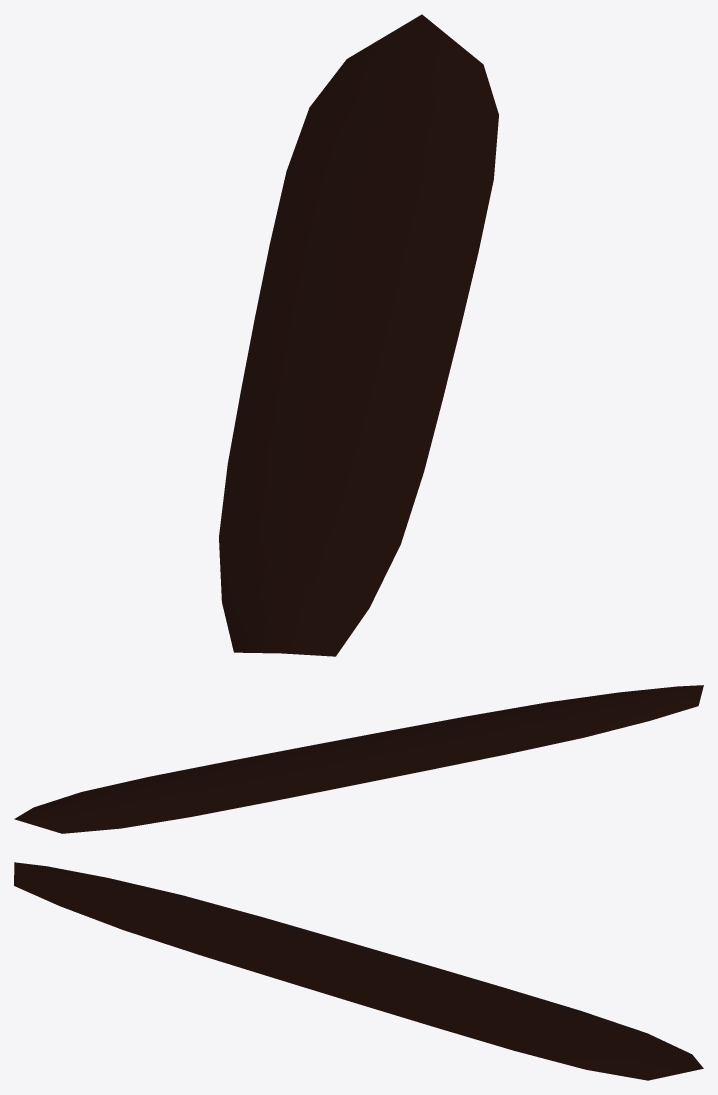
File: finch_feather_tail_primary_001.obj
The picture shows the model from 3 angles, top to bottom: view 1: azimuth 30°, elevation 25°; view 2: azimuth 150°, elevation 25°; view 3: azimuth 270°, elevation 25°; orthographic projection. The views are drawn at different scales.
Visible parts, largest first — view 1: feather_tail_primary_001; view 2: feather_tail_primary_001; view 3: feather_tail_primary_001.
Part boxes in pixels (x1,y1,x2,y2): feather_tail_primary_001: [219, 14, 498, 656]; feather_tail_primary_001: [14, 685, 703, 833]; feather_tail_primary_001: [14, 862, 703, 1080].
Size of the model in its own units: 0.0339 by 0.000661 by 0.0461.
